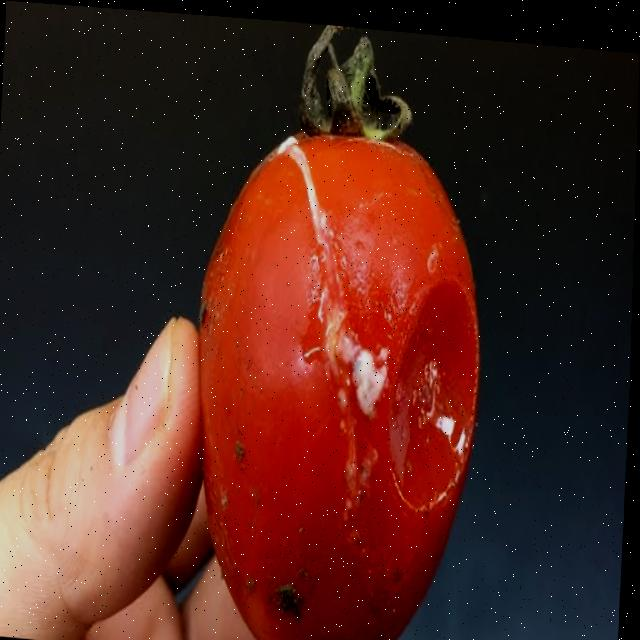rot_lvl1: (336, 323, 391, 430)
rot_lvl2: (274, 582, 304, 629)
